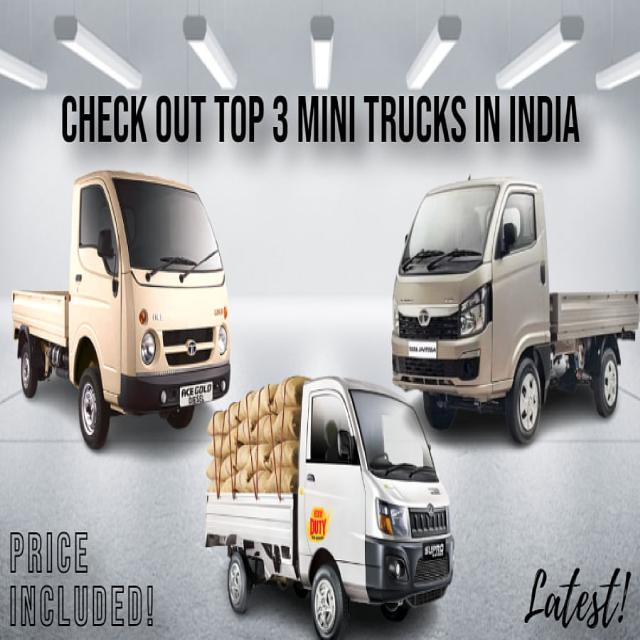truck: (205, 377, 454, 638), (394, 178, 640, 442), (12, 171, 230, 448)
